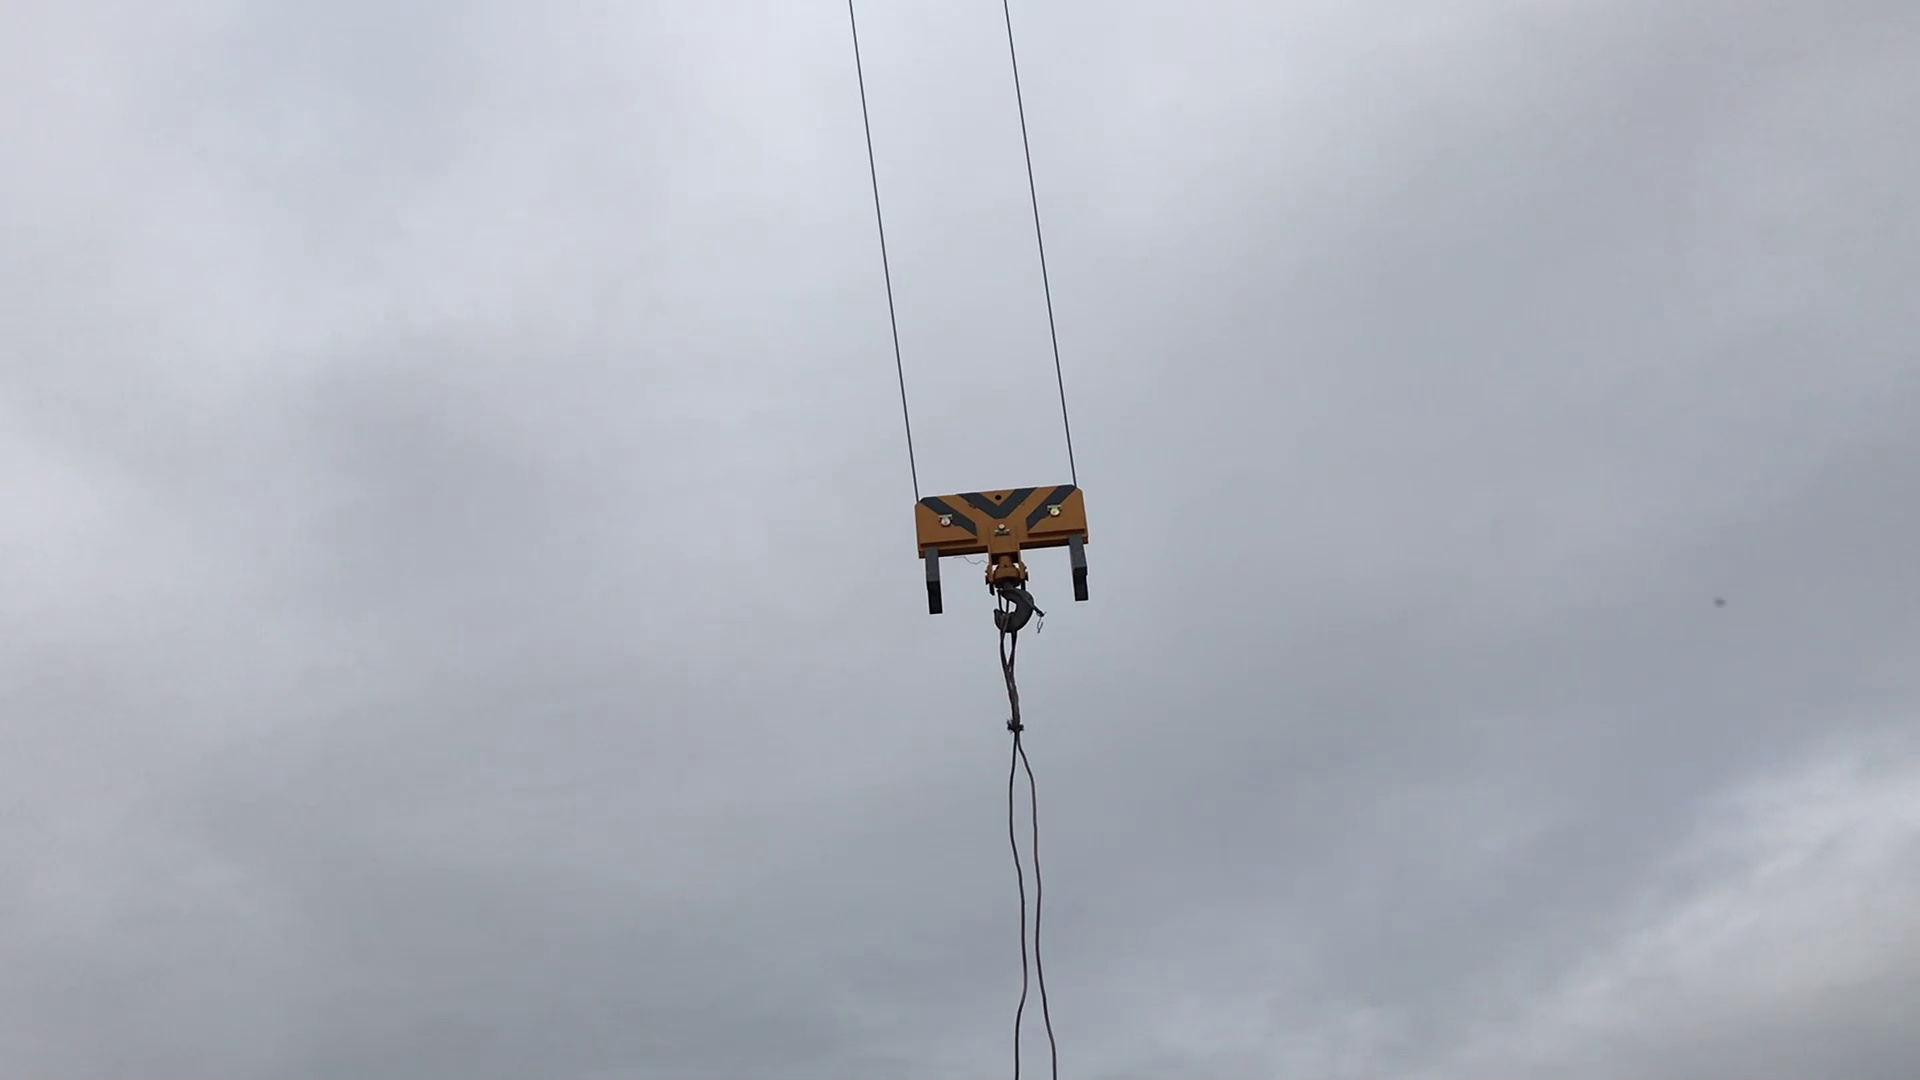hook: (906, 488, 1121, 654)
